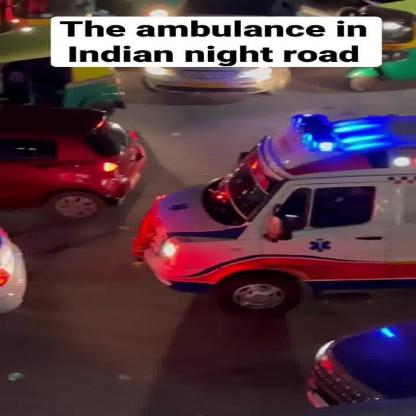priority: (119, 106, 411, 294)
